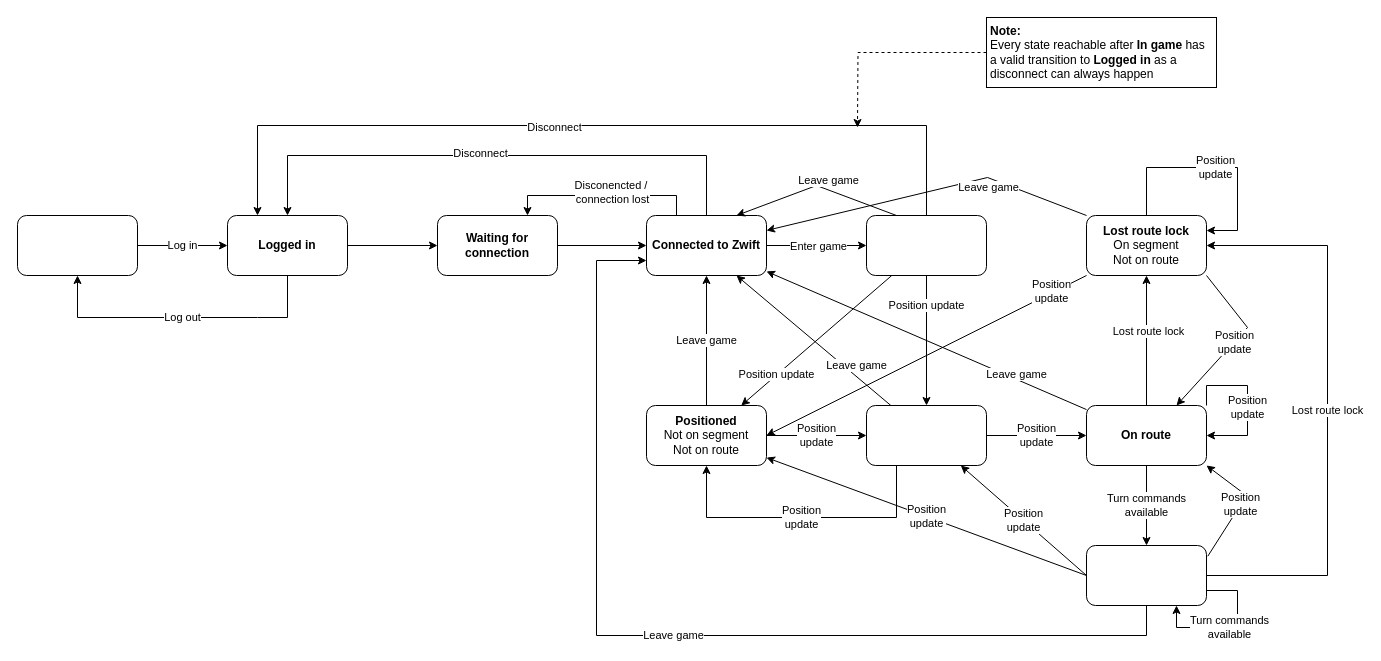
Some shapes in this 1381 by 661 pixel diagram are drawn without their labels. The shapes that lost their labels are listed below. From the top down, each one's centre as x and y in pixels, then its label:
At point 77,245: "Not logged in".
At point 926,245: "In game".
At point 926,435: "On segment Not on route".
At point 1146,575: "Upcoming turn".
